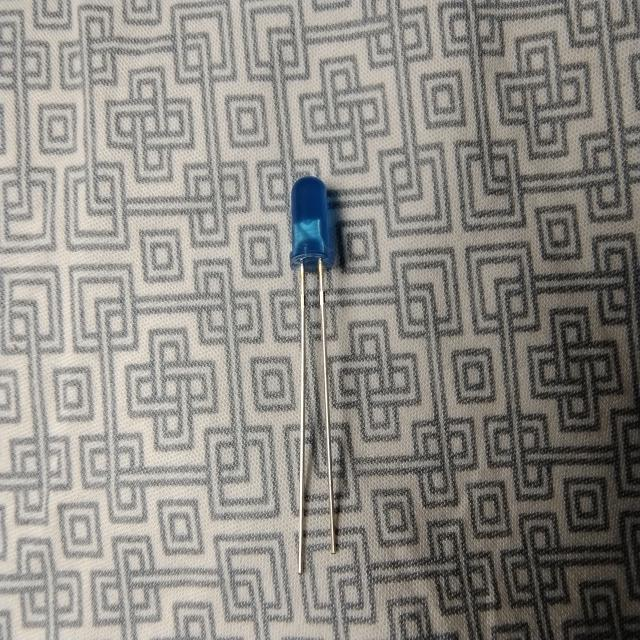blue_led: (288, 175, 336, 272)
